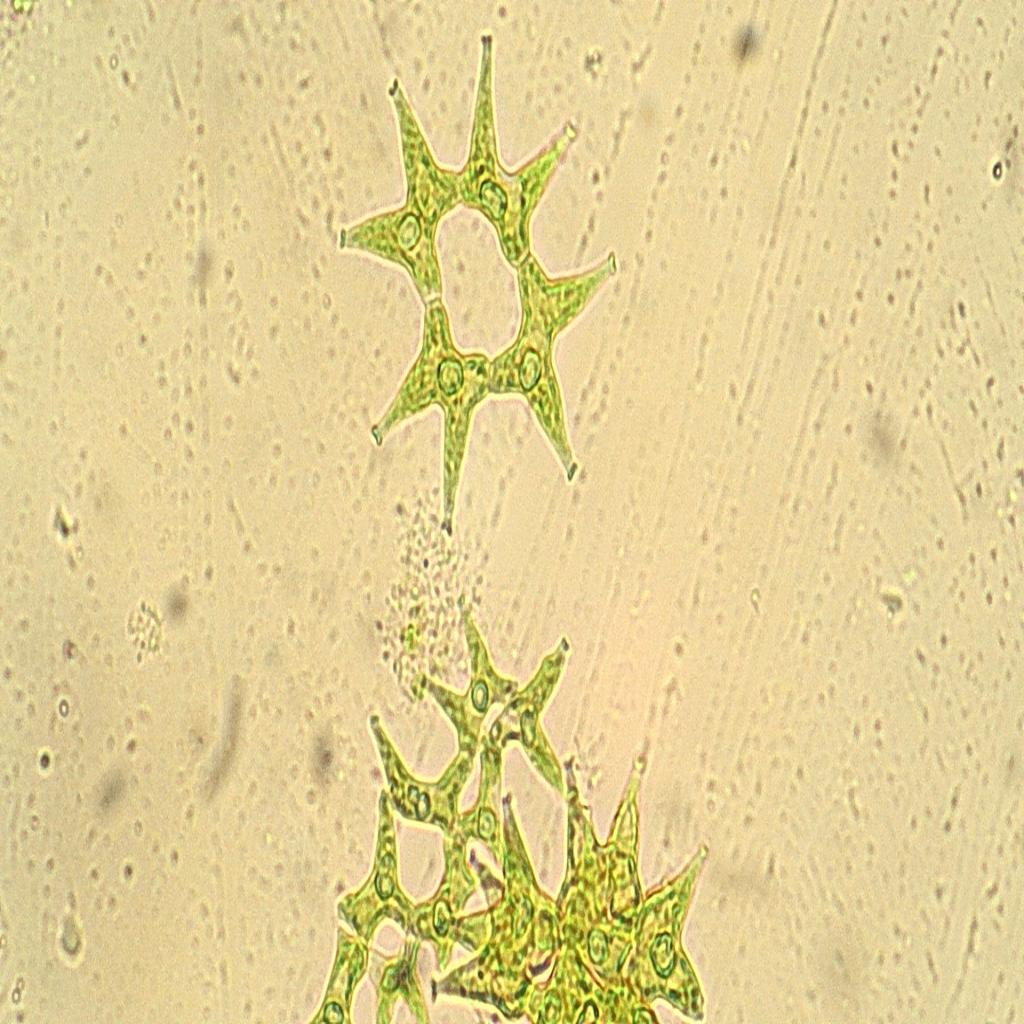Pediastrum_75O: (326, 14, 627, 556)
